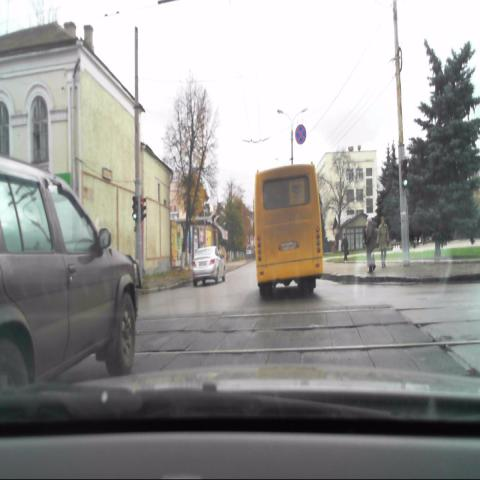3_27: (295, 123, 308, 146)
